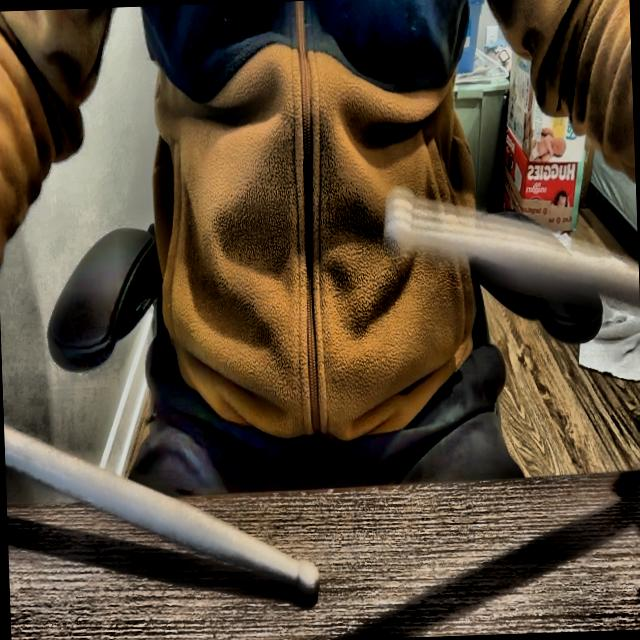Drumstick-Heads: (381, 187, 413, 258), (292, 550, 320, 606)
